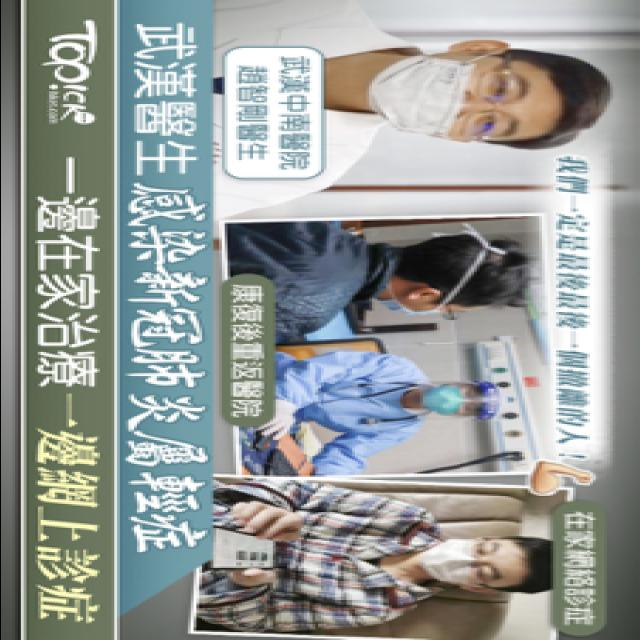mask: (372, 50, 544, 140), (416, 536, 510, 586), (380, 296, 468, 318), (424, 384, 484, 416)
